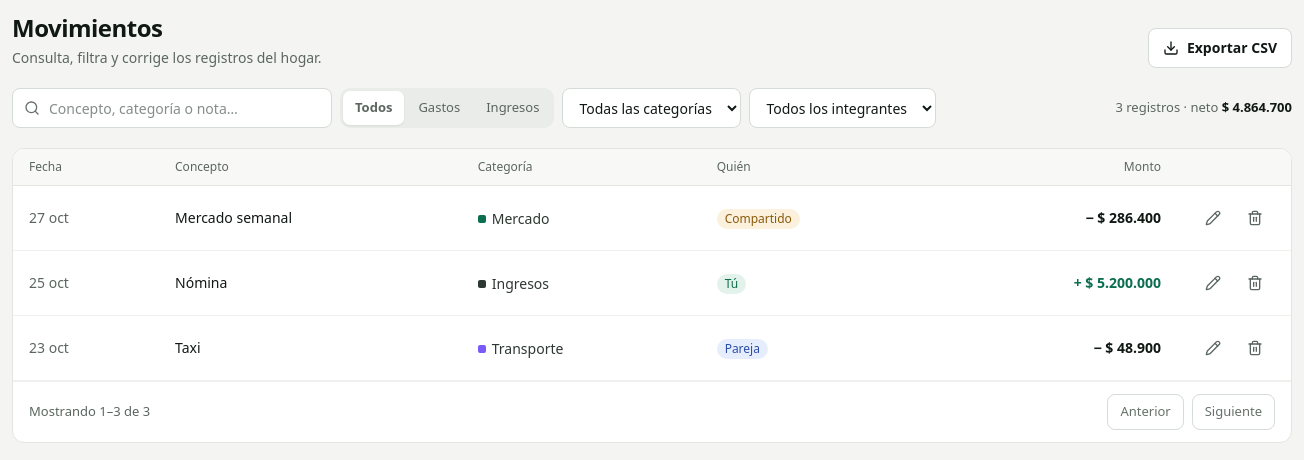
Test: TransactionsView › filters rows by concept, category or note
In the search field named "Buscar movimientos": (172, 108) 12,88 -> 332,128, type "aeropuerto"
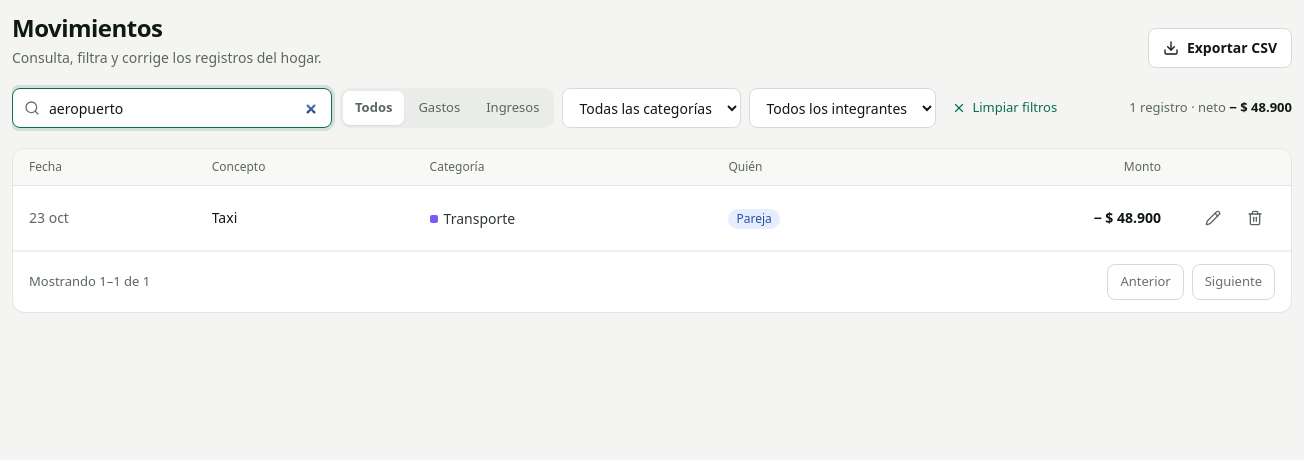
Expected: the row "23 oct Taxi Transporte Pareja − $ 48.900" is shown, 13,186 -> 1291,250
Replace the text in the search field named "Buscar movimientos" with "mercado": (172, 108) 12,88 -> 332,128
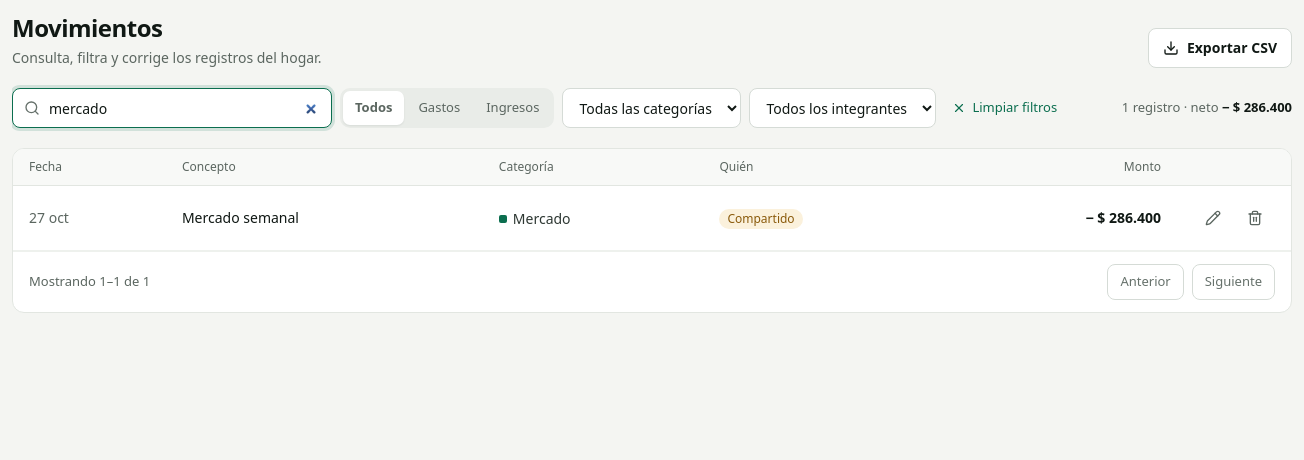
Expected: the text "1 registro" is shown, 1122,98 -> 1180,116
